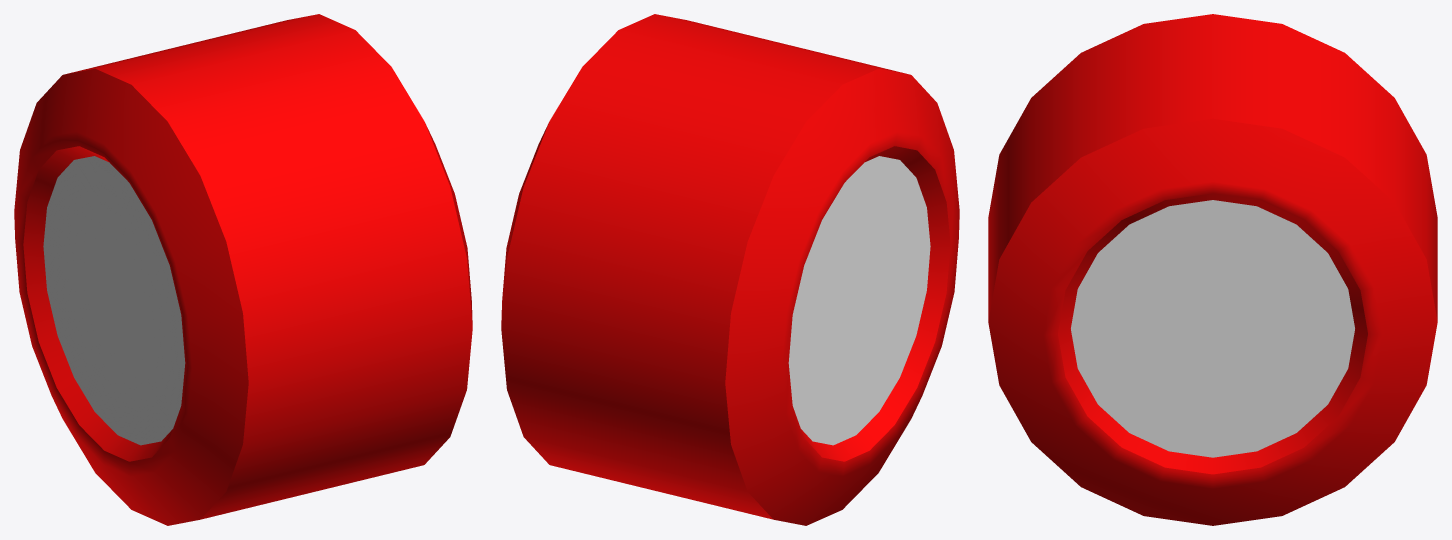
Rendered from circl.fbx.
The picture shows the model from 3 angles, left to right: view 1: azimuth 30°, elevation 25°; view 2: azimuth 150°, elevation 25°; view 3: azimuth 270°, elevation 25°; orthographic projection. The views are drawn at different scales.
Parts seen in each view (by area): view 1: wood_circl; view 2: wood_circl; view 3: wood_circl.
Part boxes in pixels (left/top/right/bottom): wood_circl: left=14, top=14, right=472, bottom=525; wood_circl: left=501, top=14, right=959, bottom=525; wood_circl: left=988, top=14, right=1437, bottom=525.
Bounding box in the file's own units: 22.36 × 32.49 × 32.49.
